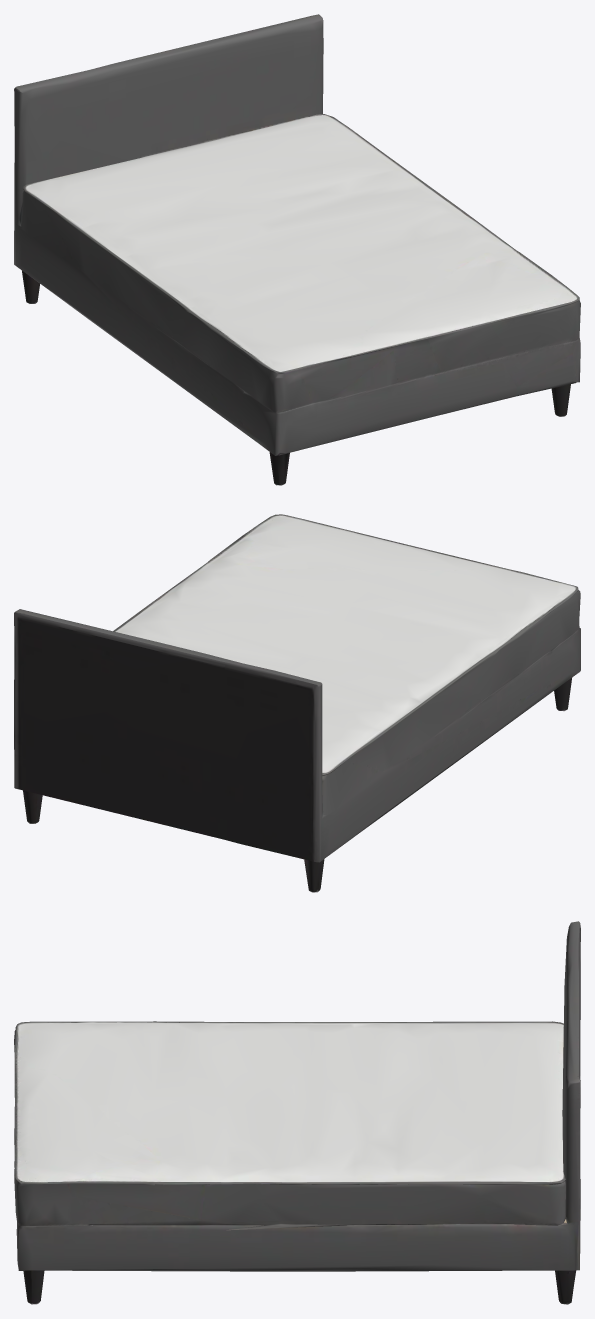
File: saeboevik-divan-bed-firm-vissle-grey-s69385750.glb
3 renders of one model, top to bottom at view 1: azimuth 30°, elevation 25°; view 2: azimuth 150°, elevation 25°; view 3: azimuth 270°, elevation 25°, orthographic. The views are drawn at different scales.
Visible parts, largest first — view 1: base_bedsize; view 2: base_bedsize; view 3: base_bedsize.
Part boxes in pixels (x1,y1,x2,y2): base_bedsize: [14, 14, 580, 485]; base_bedsize: [14, 514, 580, 892]; base_bedsize: [14, 921, 580, 1304].
Bounding box in the file's own units: 1.4 × 0.9206 × 2.07.
Materials: 1 (1 with a texture image).
